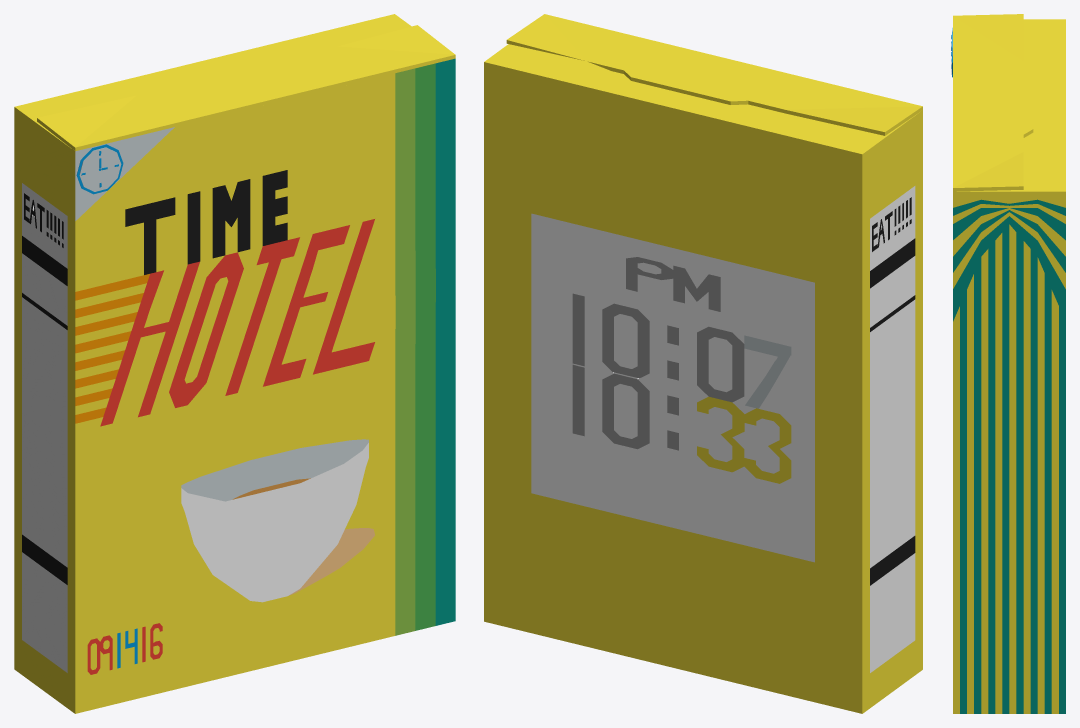
File: cereal2.glb
3 renders of one model, left to right at view 1: azimuth 30°, elevation 25°; view 2: azimuth 150°, elevation 25°; view 3: azimuth 270°, elevation 25°, orthographic. The views are drawn at different scales.
Parts seen in each view (by area): view 1: group404117465; view 2: group404117465; view 3: group404117465.
Boxes of the visible parts, box(x1,y1,x2,y2) form: group404117465: box(14, 14, 455, 713); group404117465: box(484, 14, 922, 713); group404117465: box(951, 14, 1065, 713).
Bounding box in the file's own units: 0.6015 × 0.8585 × 0.1694.
